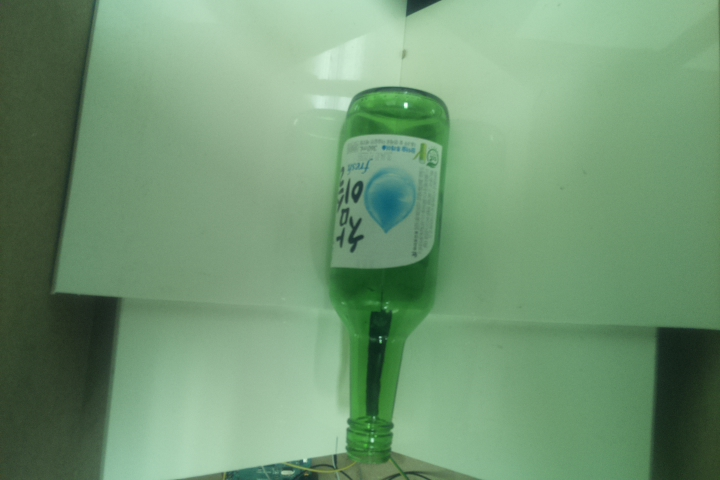soju: (323, 84, 450, 462)
